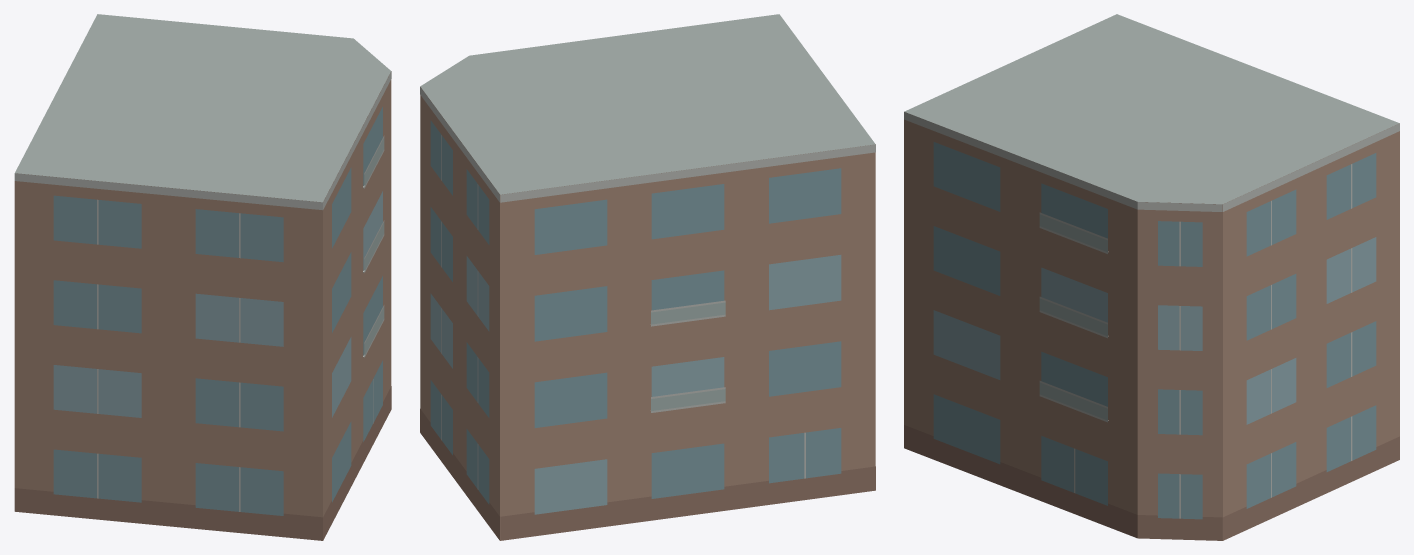
File: survey-upis-33003960.glb
The picture shows the model from 3 angles, left to right: view 1: azimuth 30°, elevation 25°; view 2: azimuth 150°, elevation 25°; view 3: azimuth 270°, elevation 25°; orthographic projection. The views are drawn at different scales.
Visible parts, largest first — view 1: survey-upis-33003960.tmp; view 2: survey-upis-33003960.tmp; view 3: survey-upis-33003960.tmp.
Boxes of the visible parts, x1,y1,x2,y2 form: survey-upis-33003960.tmp: [14, 14, 391, 540]; survey-upis-33003960.tmp: [420, 14, 875, 540]; survey-upis-33003960.tmp: [904, 14, 1399, 540].
Size of the model in its own units: 12.74 by 10.5 by 14.03.
